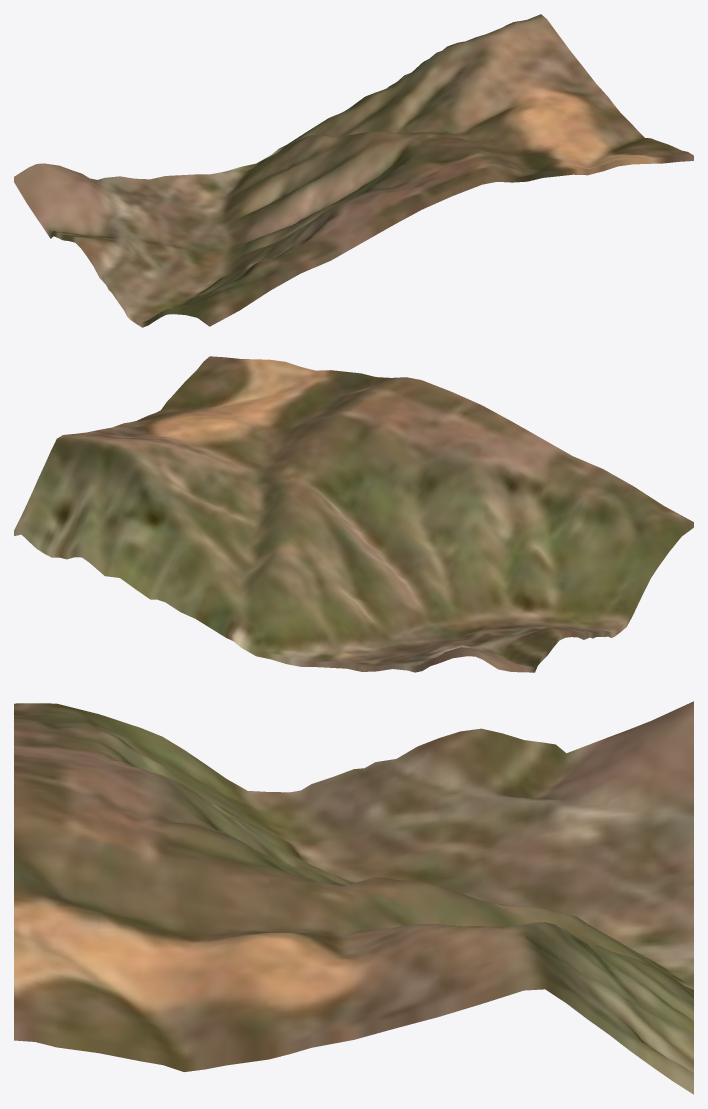
File: terrain_r0_c3_lod2.glb
3 renders of one model, top to bottom at view 1: azimuth 30°, elevation 25°; view 2: azimuth 150°, elevation 25°; view 3: azimuth 270°, elevation 25°, orthographic. The views are drawn at different scales.
Visible parts, largest first — view 1: terrain_r0_c3_lod2; view 2: terrain_r0_c3_lod2; view 3: terrain_r0_c3_lod2.
Part boxes in pixels (x1,y1,x2,y2): terrain_r0_c3_lod2: (14, 14, 693, 327); terrain_r0_c3_lod2: (14, 356, 693, 672); terrain_r0_c3_lod2: (14, 701, 693, 1094).
Size of the model in its own units: 1125 by 303 by 787.
1 material, 1 textured.
